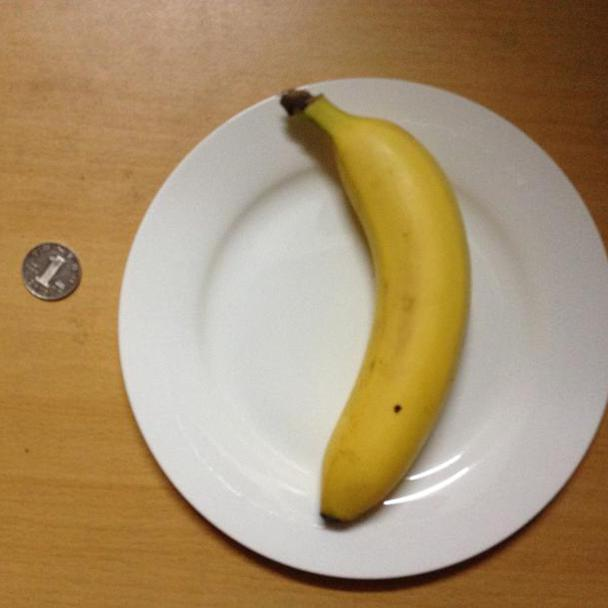banana: (277, 85, 476, 528)
